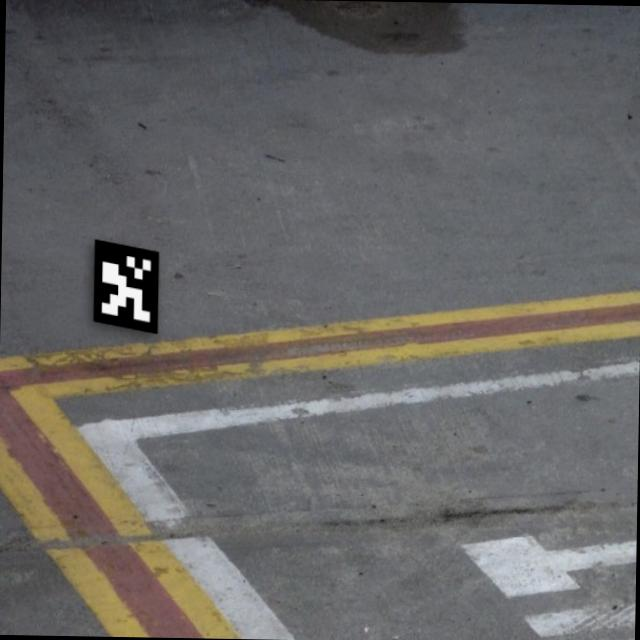marker: (82, 229, 165, 336)
